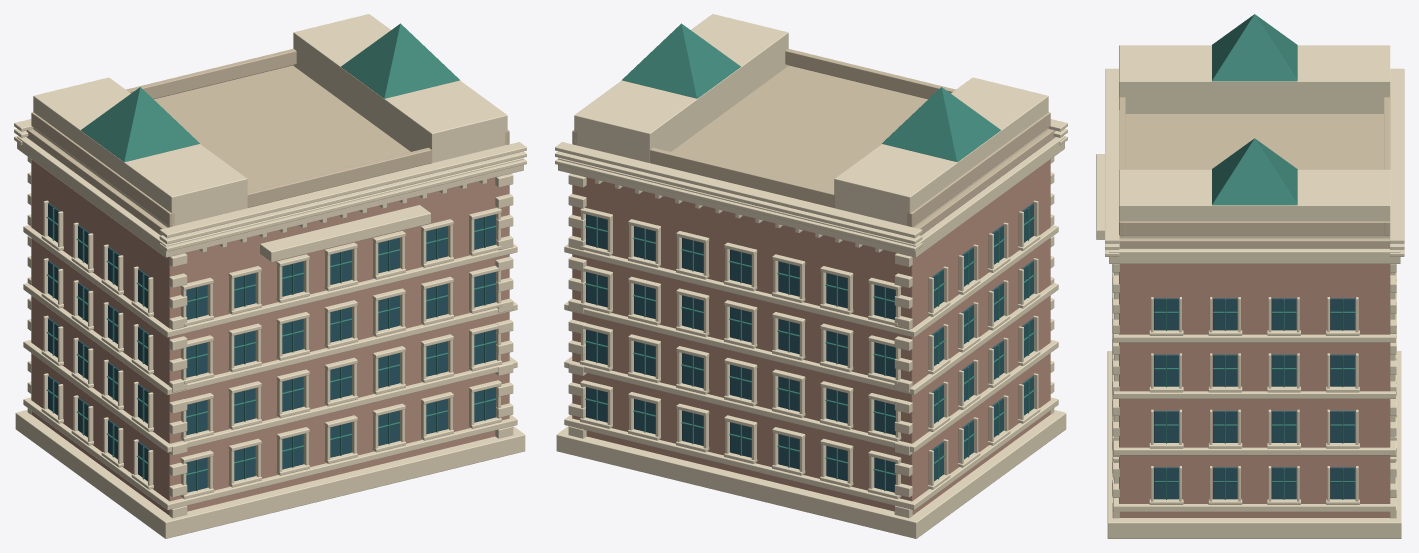
The model's file is bund-heritage-block.glb.
3 renders of one model, left to right at view 1: azimuth 30°, elevation 25°; view 2: azimuth 150°, elevation 25°; view 3: azimuth 270°, elevation 25°, orthographic. The views are drawn at different scales.
Visible parts, largest first — view 1: bund-heritage-block; view 2: bund-heritage-block; view 3: bund-heritage-block.
Boxes of the visible parts, left/top/right/bottom form: bund-heritage-block: left=14, top=14, right=526, bottom=538; bund-heritage-block: left=555, top=14, right=1067, bottom=538; bund-heritage-block: left=1096, top=14, right=1404, bottom=538.
Bounding box in the file's own units: 18 × 18.4 × 13.62.
